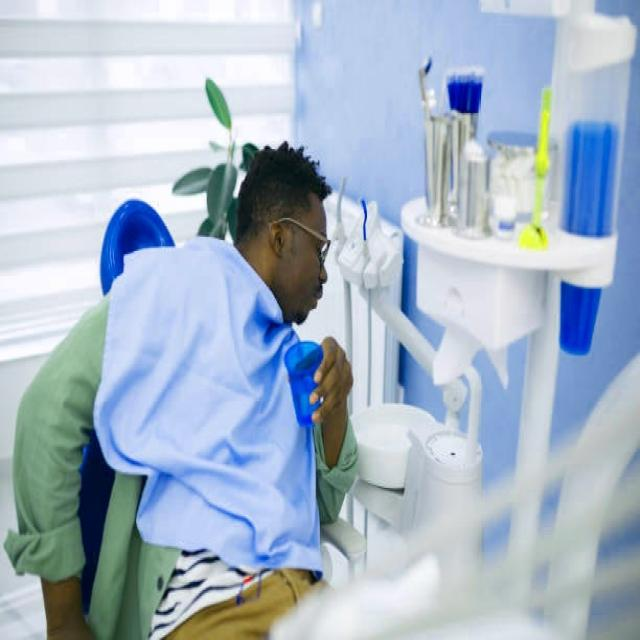Spitting: (217, 141, 375, 429)
